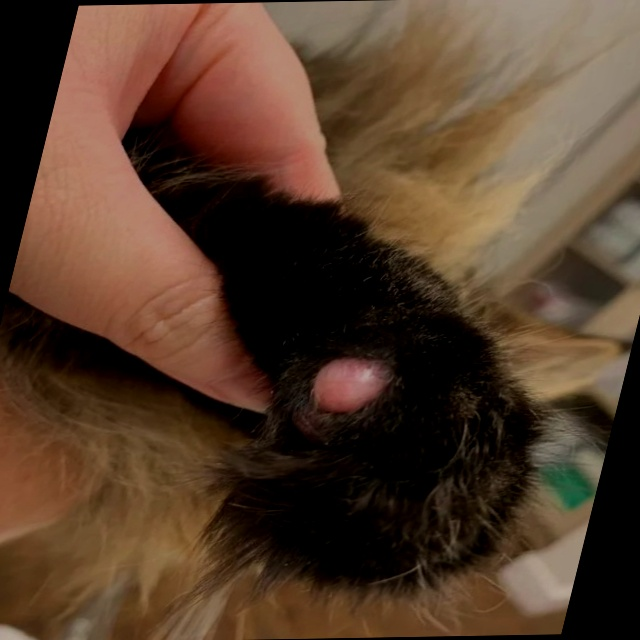lump_and_bump: (302, 358, 401, 414)
